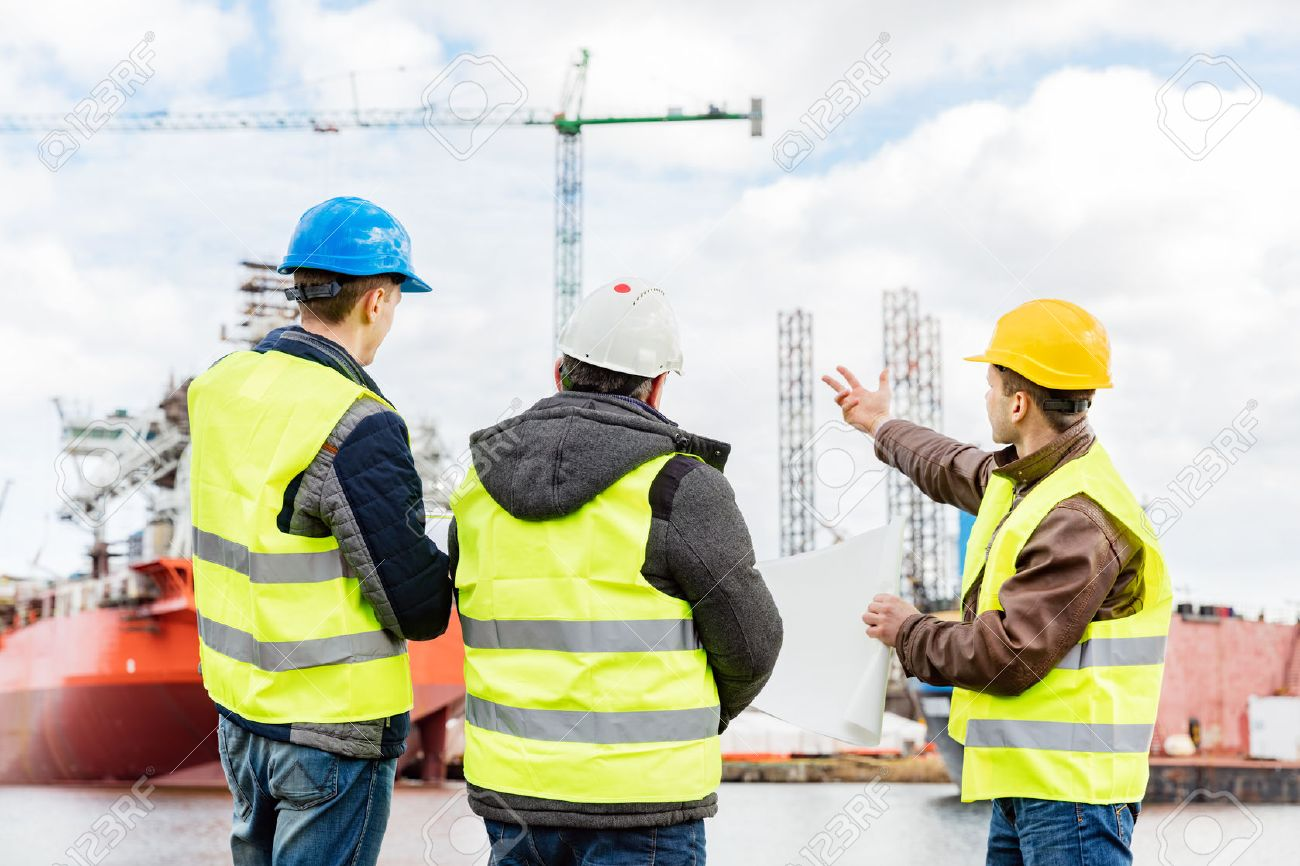casco: (277, 195, 434, 297), (961, 295, 1117, 394), (553, 275, 688, 382)
